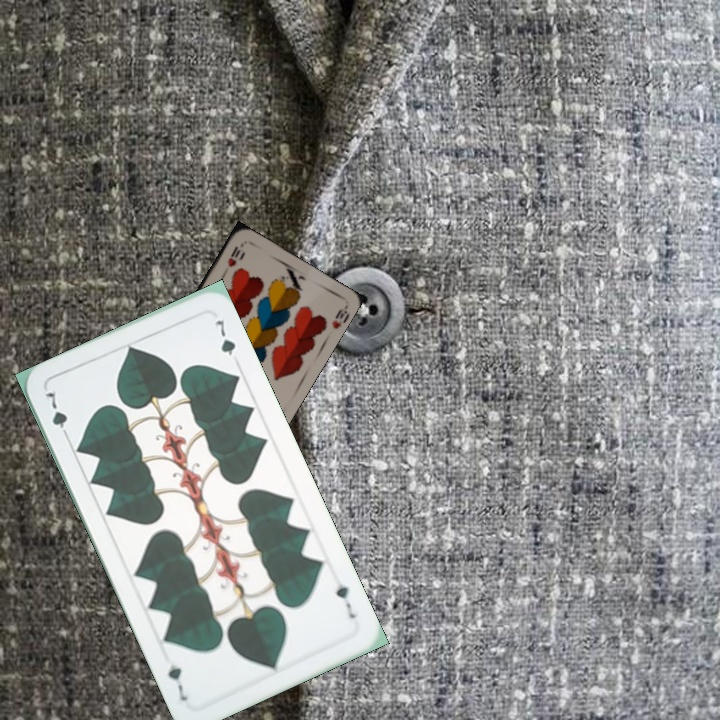G7: (41, 387, 72, 443), (331, 573, 359, 621)
H10: (223, 242, 243, 270)
